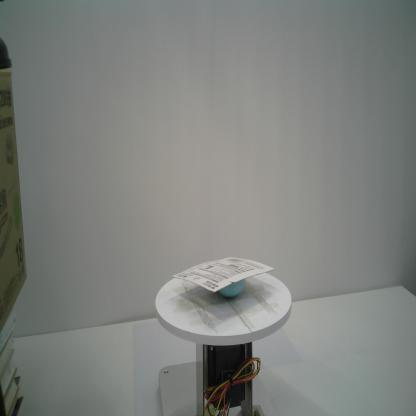Stationery: (172, 256, 274, 299)
